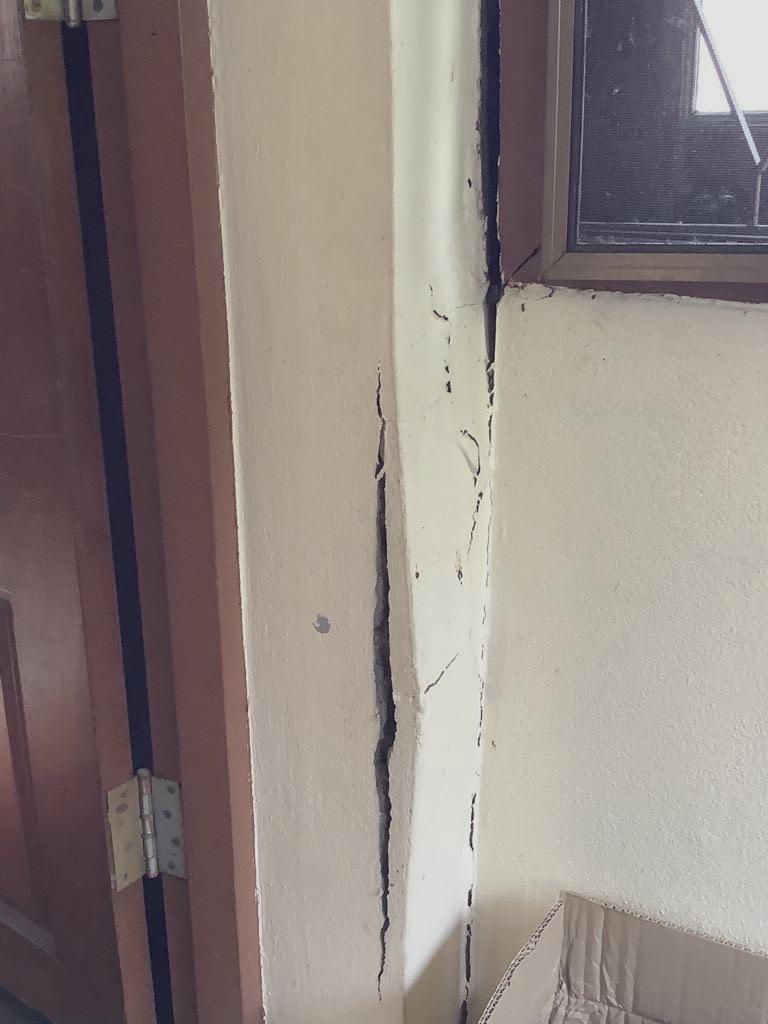High: (297, 3, 522, 1024)
